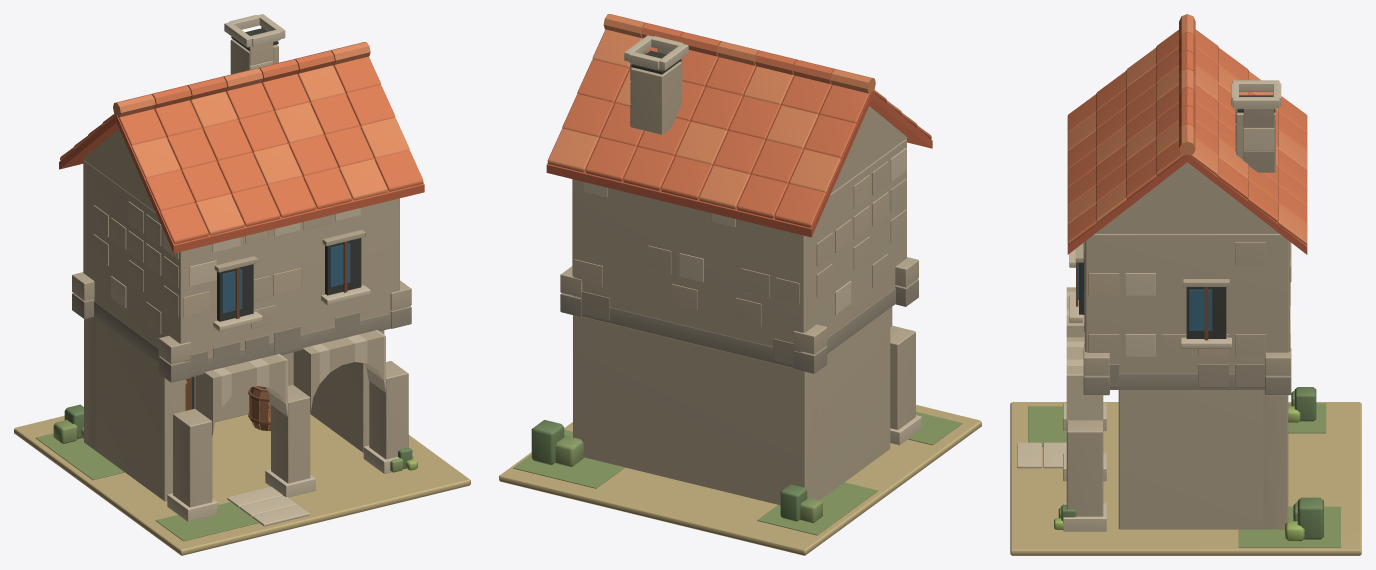
The model's file is house_tall_arcade.glb.
The picture shows the model from 3 angles, left to right: view 1: azimuth 30°, elevation 25°; view 2: azimuth 150°, elevation 25°; view 3: azimuth 270°, elevation 25°; orthographic projection. The views are drawn at different scales.
Visible parts, largest first — view 1: house_tall_arcade; view 2: house_tall_arcade; view 3: house_tall_arcade.
Part boxes in pixels (left/top/right/bottom): house_tall_arcade: left=14, top=14, right=470, bottom=555; house_tall_arcade: left=499, top=14, right=981, bottom=555; house_tall_arcade: left=1010, top=14, right=1361, bottom=555.
Bounding box in the file's own units: 2.4 × 3.14 × 2.4.
